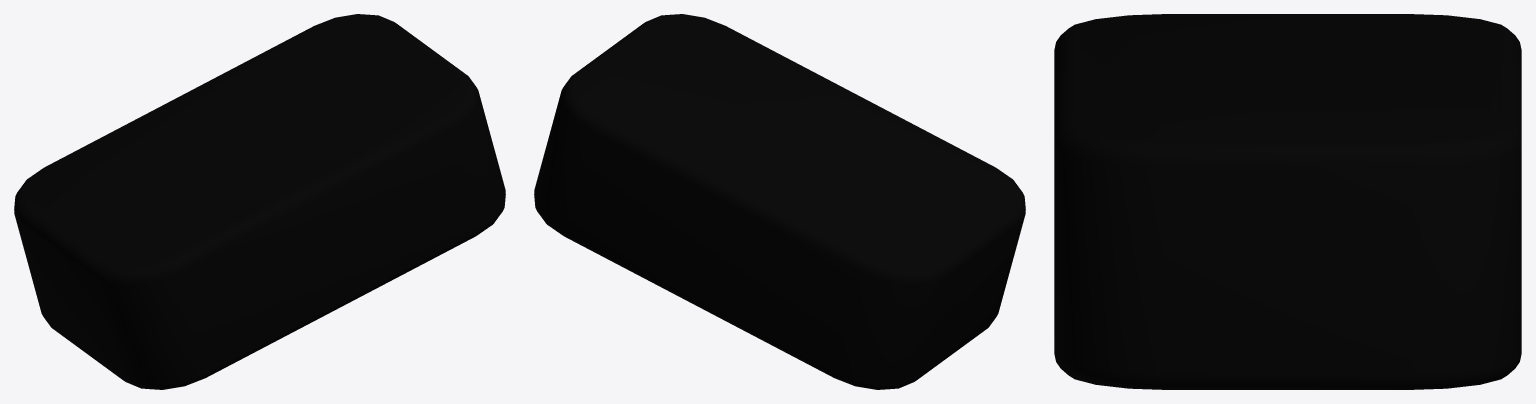
Rendered from Strassenleuchte.glb.
3 views of the same model, side by side, from view 1: azimuth 30°, elevation 25°; view 2: azimuth 150°, elevation 25°; view 3: azimuth 270°, elevation 25° (orthographic). The views are drawn at different scales.
Parts seen in each view (by area): view 1: VEB BG2; view 2: VEB BG2; view 3: VEB BG2.
Boxes of the visible parts, x1,y1,x2,y2 form: VEB BG2: [14, 14, 505, 389]; VEB BG2: [534, 14, 1025, 389]; VEB BG2: [1054, 14, 1521, 389].
Bounding box in the file's own units: 0.8817 × 0.4751 × 0.51.
Materials: 5 (4 with a texture image).
